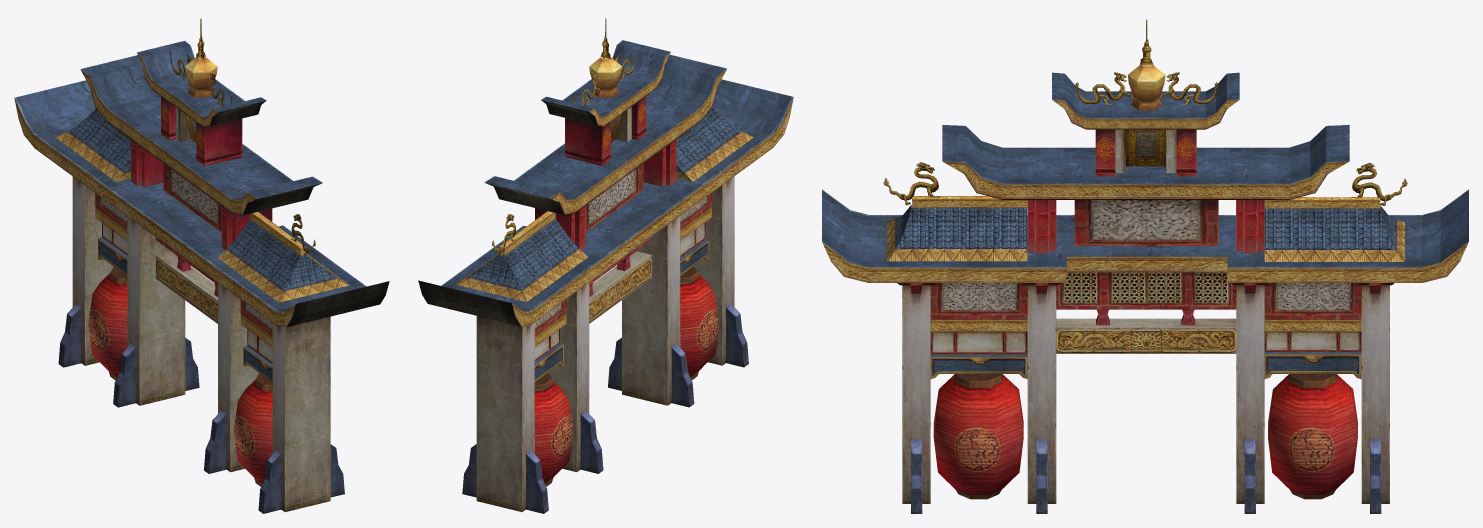
File: cj_jang_gate_door.glb
3 views of the same model, side by side, from view 1: azimuth 30°, elevation 25°; view 2: azimuth 150°, elevation 25°; view 3: azimuth 270°, elevation 25° (orthographic). The views are drawn at different scales.
Visible parts, largest first — view 1: cj_jang_gate01, cj_jang_gate02, cj_jang_gate04, cj_jang_gate03; view 2: cj_jang_gate01, cj_jang_gate02, cj_jang_gate04, cj_jang_gate03; view 3: cj_jang_gate01, cj_jang_gate02, cj_jang_gate04, cj_jang_gate03.
Part boxes in pixels (x1,y1,x2,y2): cj_jang_gate01: (14,53,344,513); cj_jang_gate02: (14,41,389,486); cj_jang_gate04: (88,274,272,483); cj_jang_gate03: (170,18,315,256); cj_jang_gate01: (462,52,793,513); cj_jang_gate02: (418,40,793,486); cj_jang_gate04: (534,274,719,483); cj_jang_gate03: (492,18,636,256); cj_jang_gate01: (822,64,1468,513); cj_jang_gate02: (822,72,1468,499); cj_jang_gate04: (933,374,1357,495); cj_jang_gate03: (883,19,1407,205).
Size of the model in its own units: 6.17 by 25.87 by 32.08.
4 materials, 4 textured.
